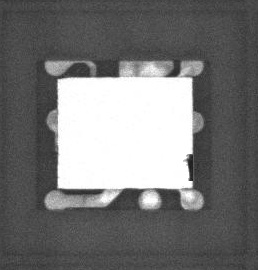DIE_BROKEN: (184, 152, 194, 182)
